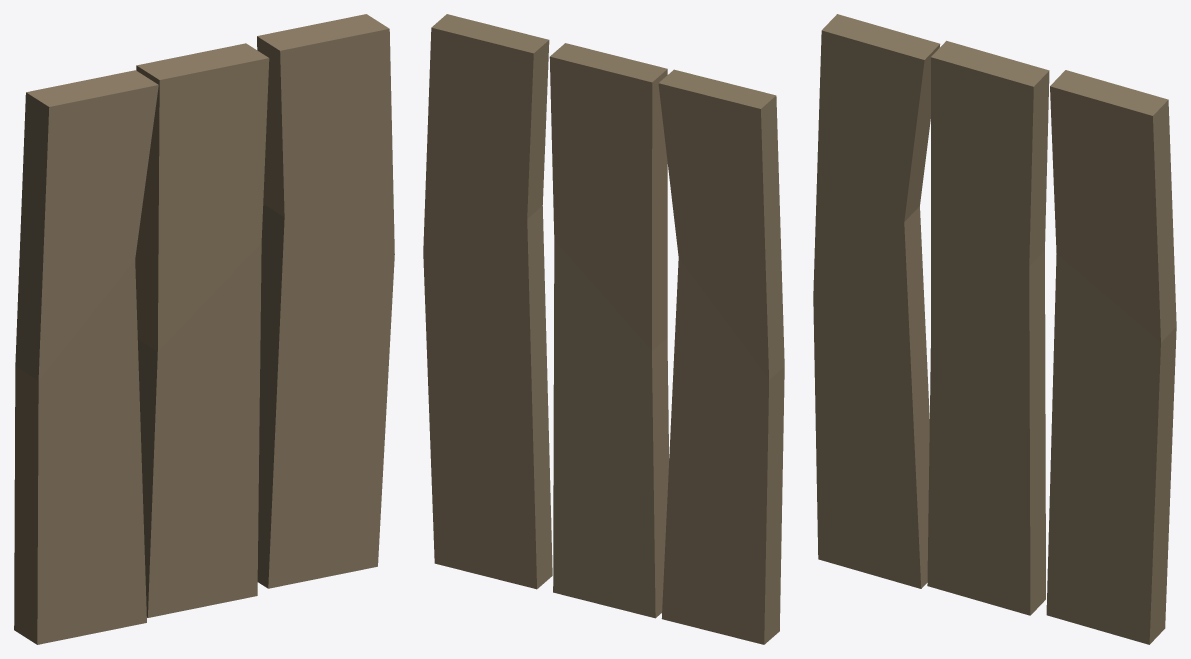
File: Window_2_low.fbx
The picture shows the model from 3 angles, left to right: view 1: azimuth 30°, elevation 25°; view 2: azimuth 150°, elevation 25°; view 3: azimuth 330°, elevation 25°; orthographic projection.
Parts seen in each view (by area): view 1: Windows_2_low; view 2: Windows_2_low; view 3: Windows_2_low.
Boxes of the visible parts, box(x1,y1,x2,y2) form: Windows_2_low: box(14, 14, 394, 644); Windows_2_low: box(423, 14, 784, 644); Windows_2_low: box(813, 14, 1176, 644).
Bounding box in the file's own units: 0.6835 × 0.9912 × 0.0886.
